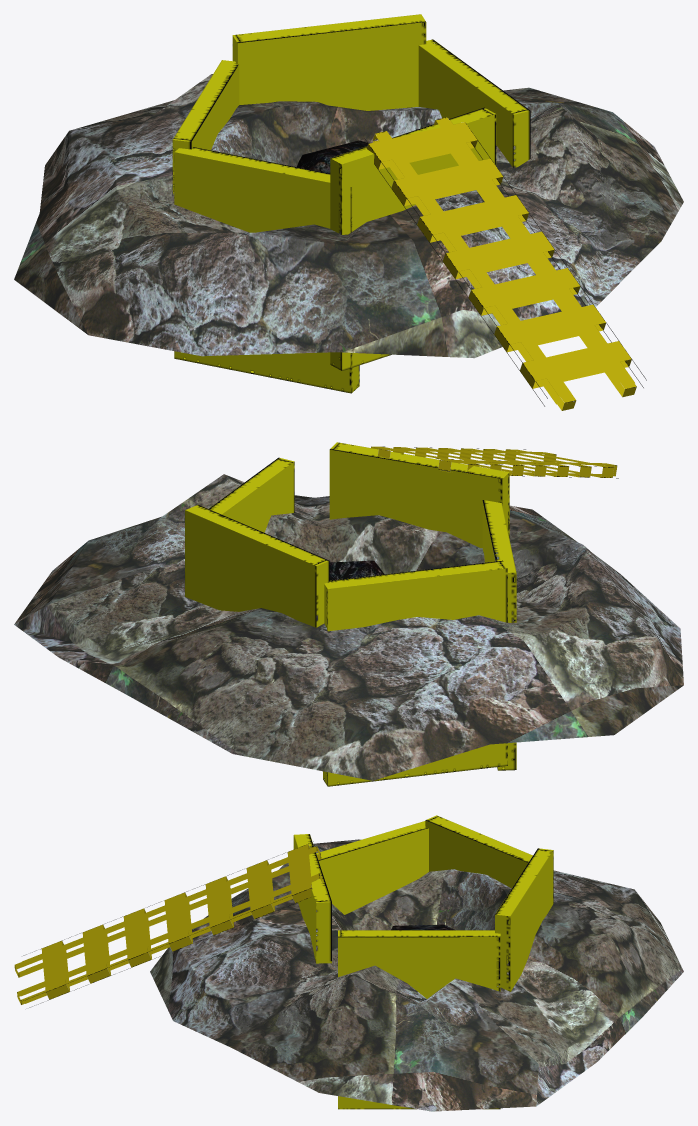
The model's file is coal_mine_lod3.fbx.
The picture shows the model from 3 angles, top to bottom: view 1: azimuth 30°, elevation 25°; view 2: azimuth 150°, elevation 25°; view 3: azimuth 270°, elevation 25°; orthographic projection. The views are drawn at different scales.
Parts seen in each view (by area): view 1: coal_mine_mesh; view 2: coal_mine_mesh; view 3: coal_mine_mesh.
Part boxes in pixels (x1=…): coal_mine_mesh: x1=14, y1=14, x2=683, y2=410; coal_mine_mesh: x1=14, y1=442, x2=683, y2=786; coal_mine_mesh: x1=14, y1=815, x2=683, y2=1111.
Size of the model in its own units: 18.54 by 6.96 by 21.01.
